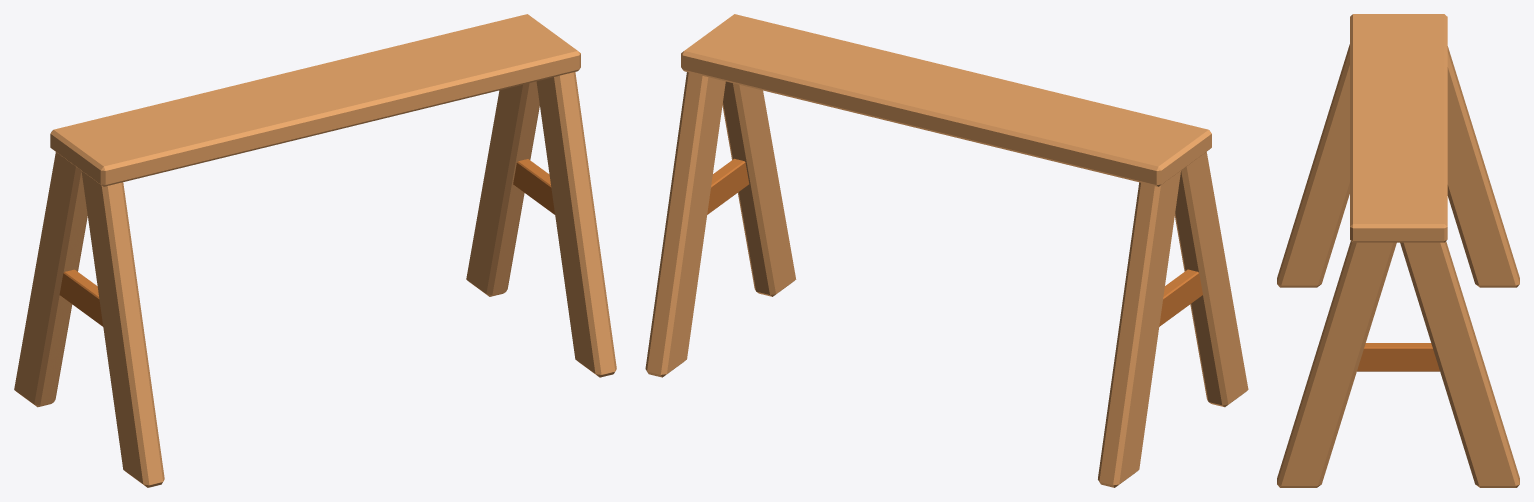
The model's file is Wood Stand.fbx.
3 renders of one model, left to right at view 1: azimuth 30°, elevation 25°; view 2: azimuth 150°, elevation 25°; view 3: azimuth 270°, elevation 25°, orthographic. The views are drawn at different scales.
Parts seen in each view (by area): view 1: Wood Stand; view 2: Wood Stand; view 3: Wood Stand.
Boxes of the visible parts, <box> form: Wood Stand: <box>14,14,616,487</box>; Wood Stand: <box>645,14,1248,487</box>; Wood Stand: <box>1277,14,1519,487</box>.
Bounding box in the file's own units: 245 × 143 × 118.
